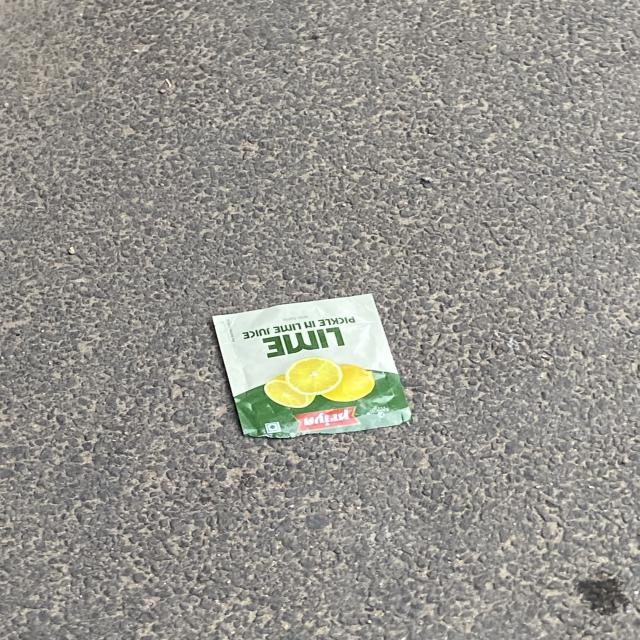wrapper: (212, 294, 411, 438)
